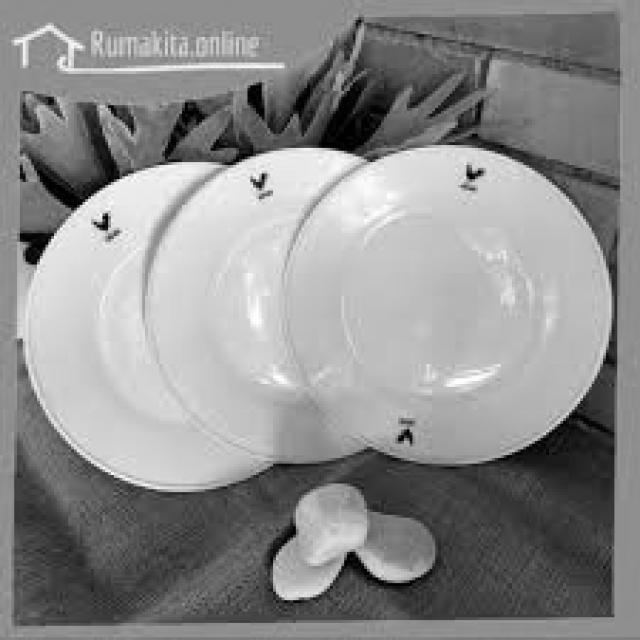dish: (15, 71, 620, 502)
